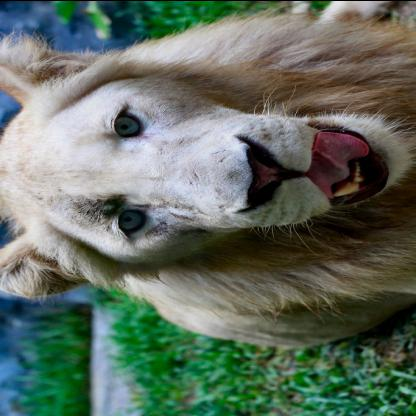lion: (0, 29, 408, 300)
